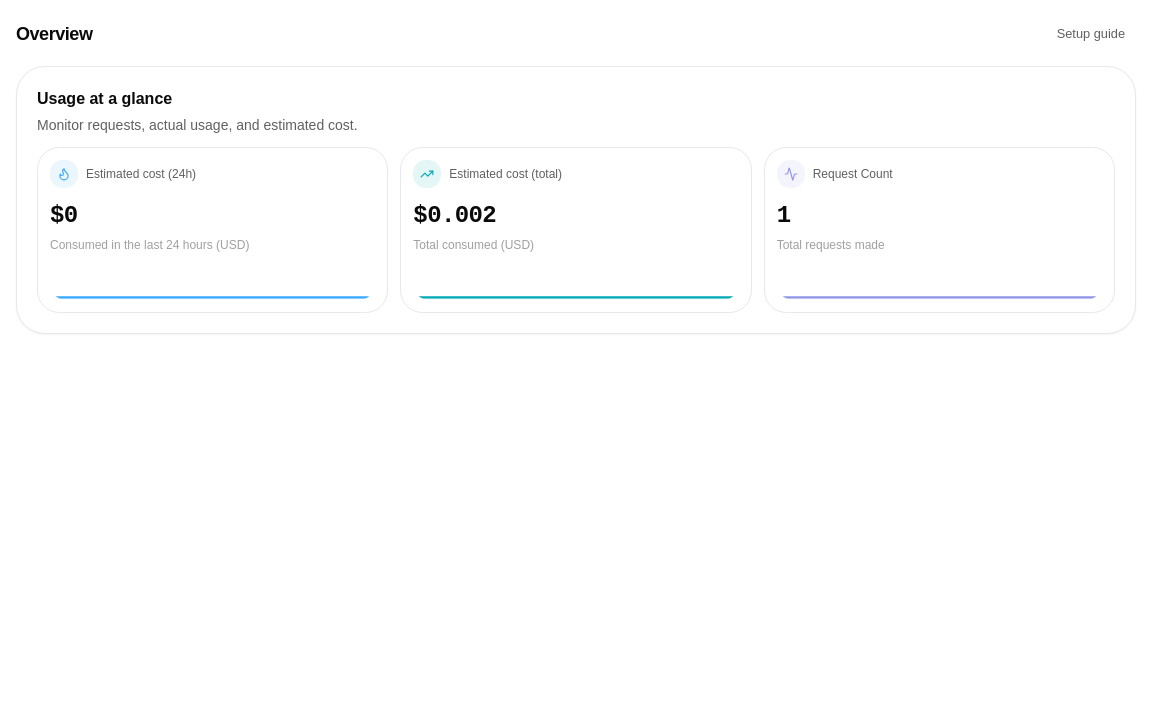
Test: overview setup guide › toggles the completed guide with the keyboard and restores focus after hiding it
Press Tab
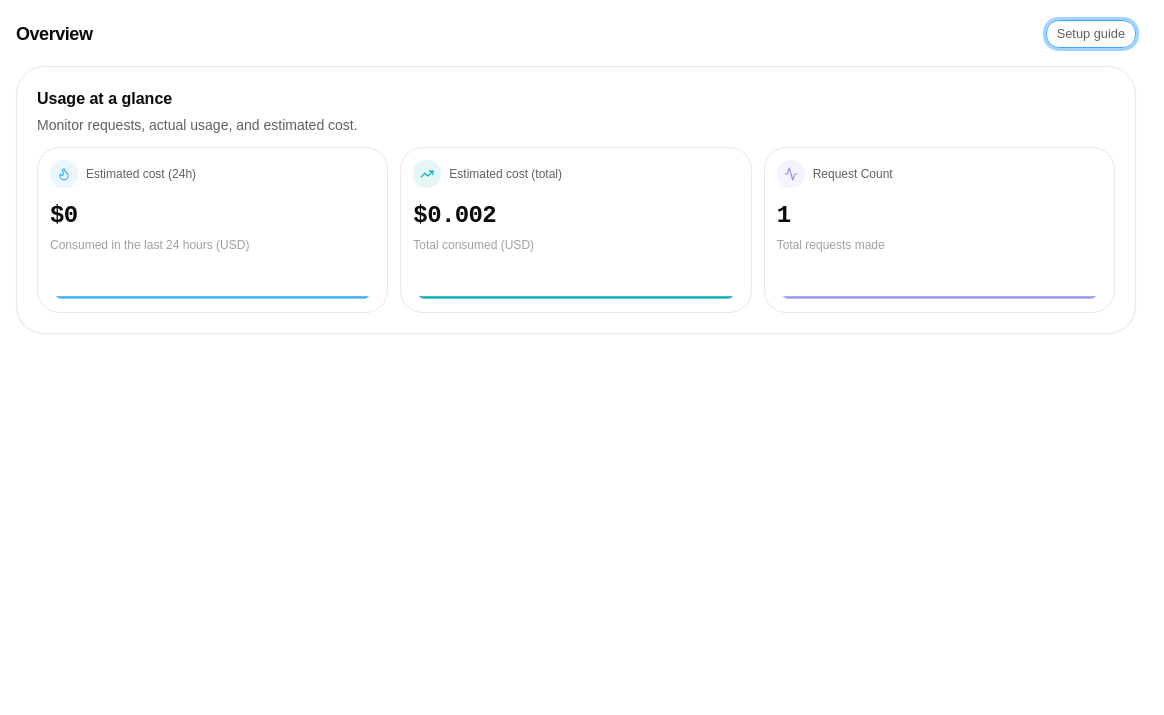
Press Enter
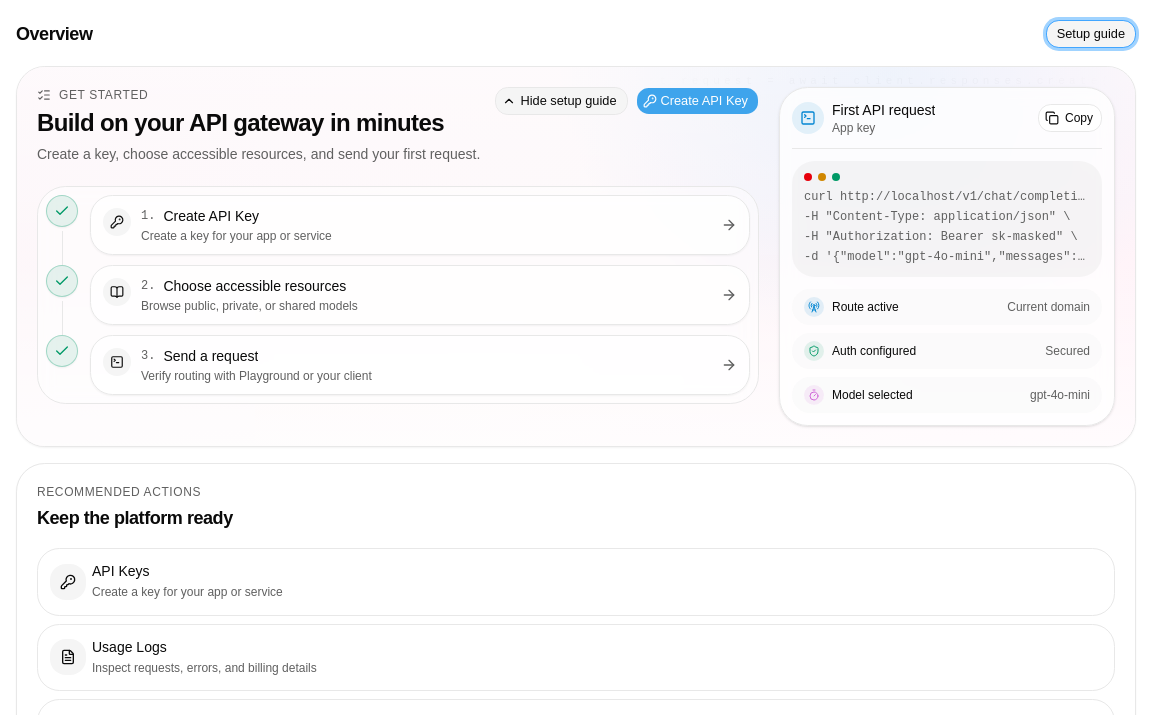
Expected: the button "Setup guide" is expanded, [1046,20,1136,48]
Expected: the heading "Build on your API gateway in minutes" is shown, [37,107,480,139]
Expected: the button "API Keys Create a key for your app or service" is shown, [37,548,1115,616]
Type keys " "
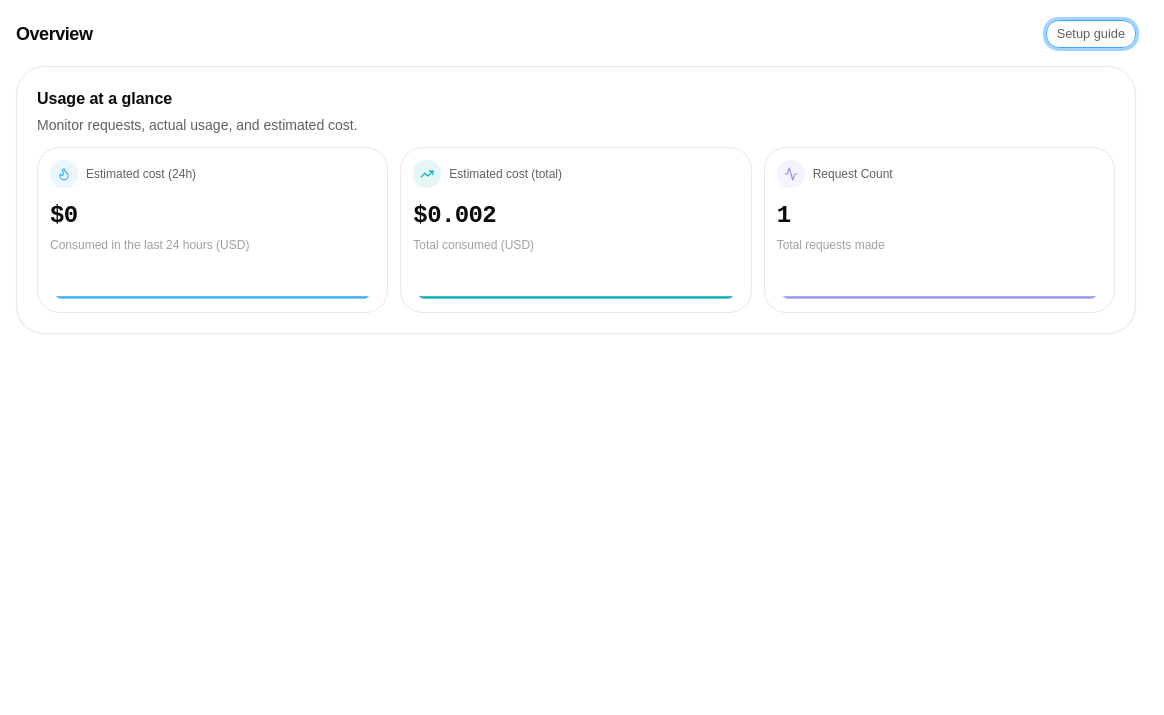
Expected: the button "Setup guide" is collapsed
Click the button "Setup guide".
click(1091, 34)  # box [1046,20,1136,48]
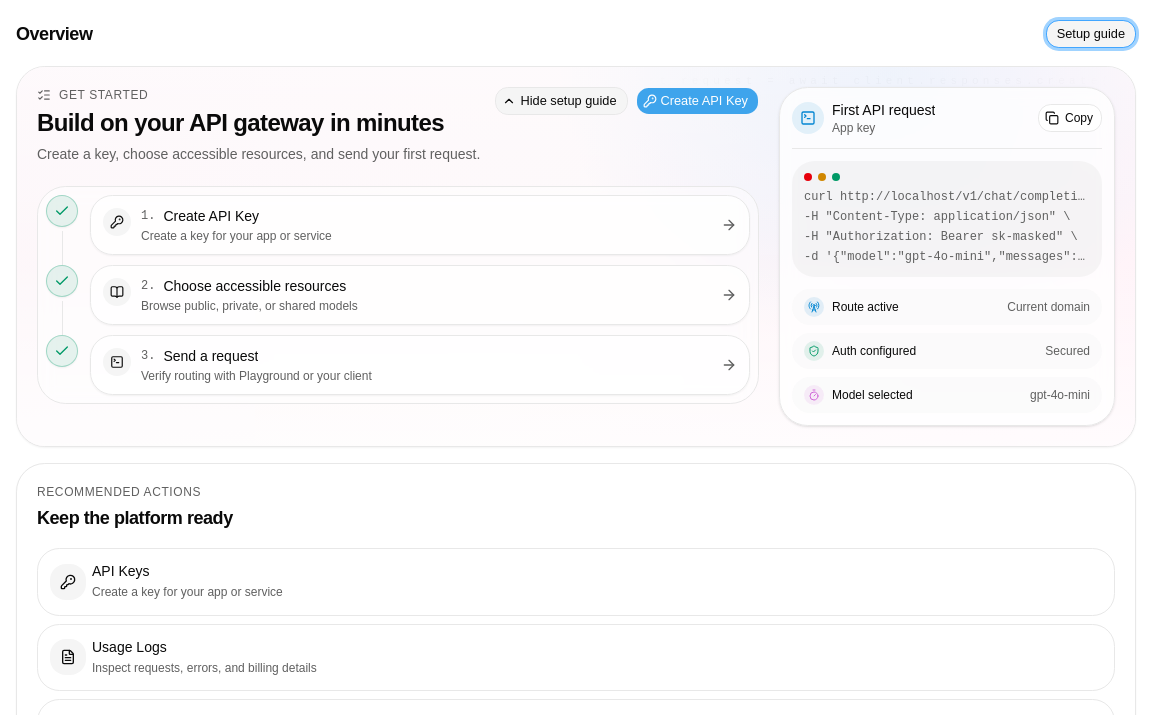
Click the button "Hide setup guide".
click(562, 101)  # box [496,87,628,115]
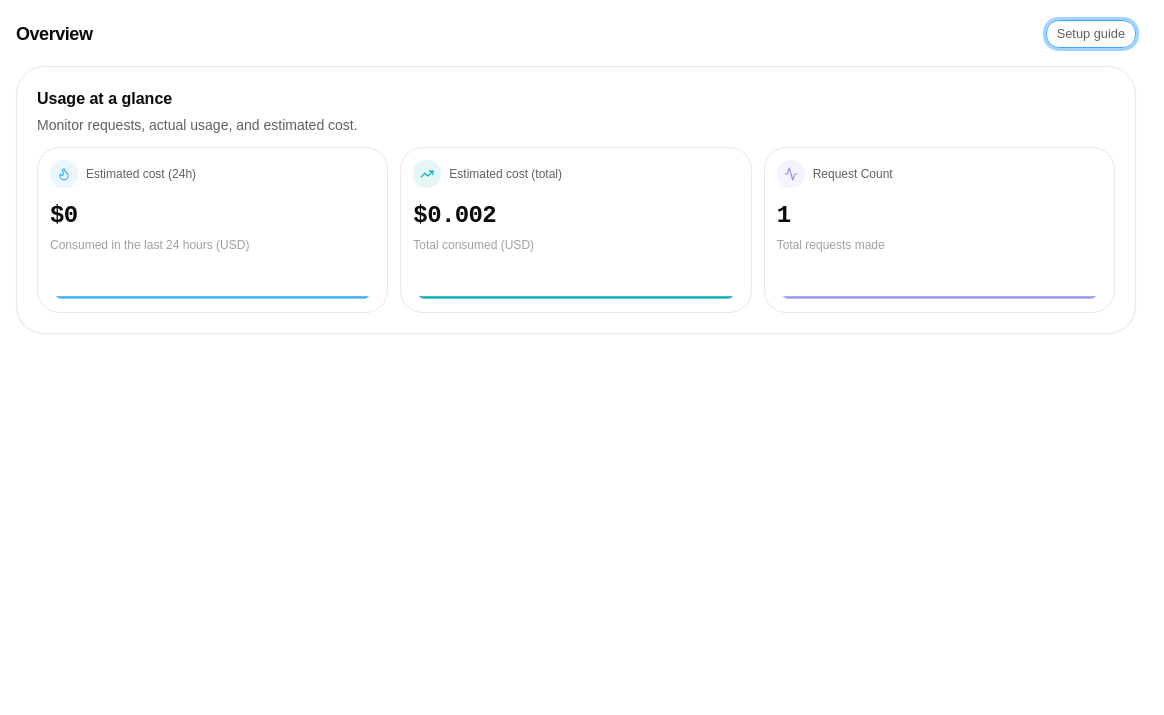
Expected: the button "Setup guide" is collapsed, [1046,20,1136,48]
